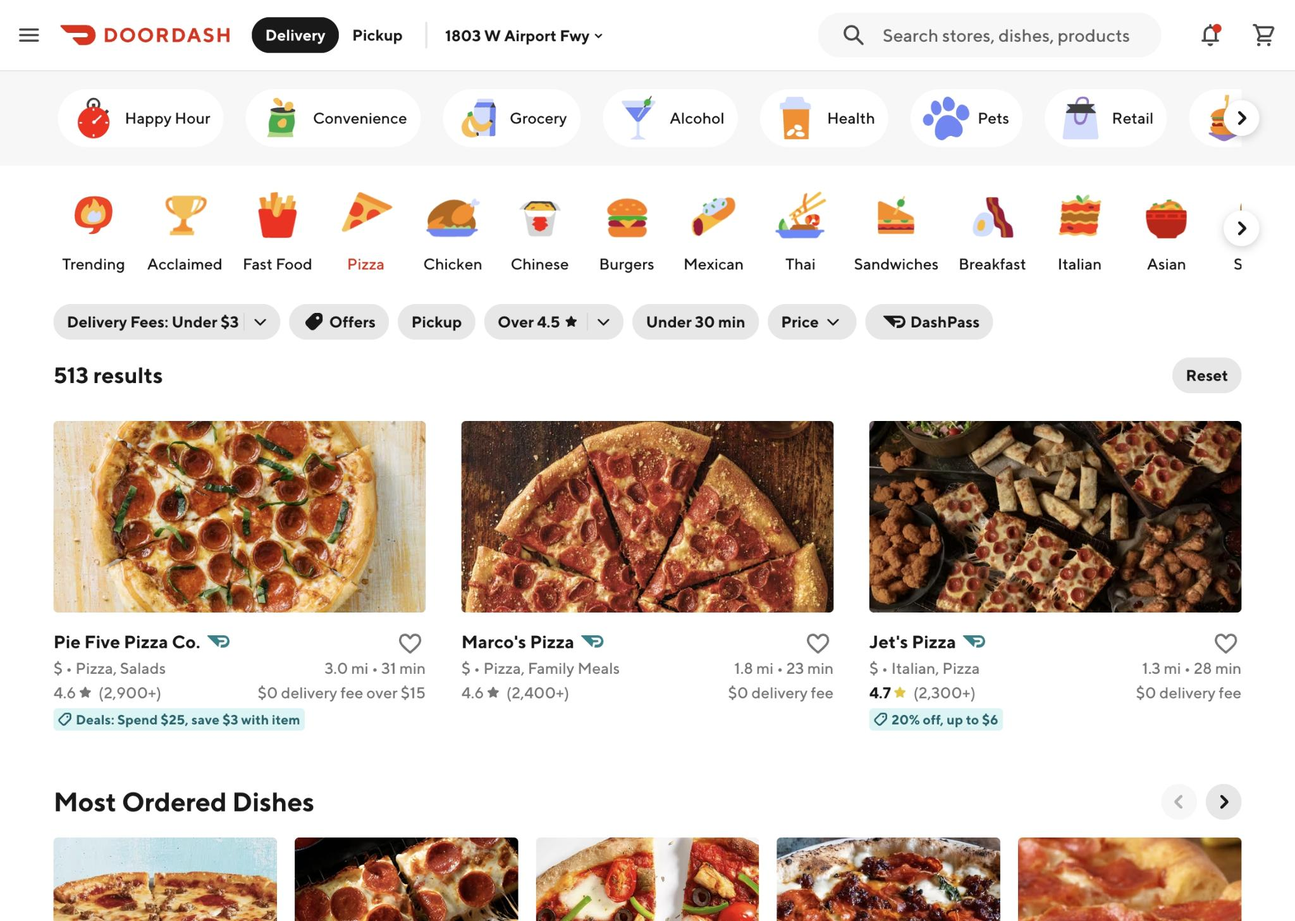webelement: (52, 420, 424, 612), (460, 420, 832, 612), (868, 420, 1240, 612), (52, 625, 424, 730), (868, 625, 1240, 730), (460, 625, 832, 707), (52, 837, 275, 921), (293, 837, 516, 921), (535, 837, 758, 921), (1017, 837, 1240, 921), (776, 837, 998, 921), (245, 88, 420, 146), (57, 88, 223, 146), (52, 783, 313, 819), (142, 176, 226, 279), (53, 303, 279, 339), (441, 88, 579, 146), (602, 88, 736, 146), (55, 176, 130, 279), (759, 88, 887, 146), (1044, 88, 1165, 146), (909, 88, 1021, 146), (882, 23, 1147, 47), (1188, 88, 1295, 146), (484, 303, 623, 339), (632, 303, 758, 339), (75, 709, 300, 729), (256, 680, 424, 703), (288, 303, 388, 339), (66, 312, 265, 330), (52, 628, 199, 652), (59, 25, 228, 45), (251, 17, 337, 52), (1053, 90, 1107, 143), (460, 659, 618, 677), (52, 361, 161, 387), (66, 90, 119, 143), (254, 90, 307, 143), (450, 90, 503, 143), (611, 90, 664, 143), (768, 90, 821, 143), (919, 90, 972, 143), (1197, 90, 1250, 143), (397, 303, 473, 339), (460, 628, 573, 652), (338, 17, 414, 52), (878, 308, 978, 334), (444, 26, 588, 44), (1171, 357, 1240, 392), (727, 680, 832, 703), (1135, 680, 1240, 703), (323, 656, 424, 679), (733, 656, 832, 679), (1141, 656, 1240, 679), (891, 709, 997, 729), (868, 628, 955, 652), (312, 106, 406, 128), (497, 312, 610, 330), (52, 659, 165, 677), (868, 659, 978, 677), (6, 13, 50, 57), (1241, 13, 1285, 57), (124, 106, 209, 128), (853, 252, 937, 274), (646, 312, 744, 330), (146, 252, 222, 274), (242, 252, 312, 274), (958, 252, 1025, 274), (97, 680, 161, 703), (505, 680, 568, 703), (913, 680, 975, 703), (61, 252, 123, 274), (682, 252, 742, 274), (301, 312, 374, 330), (423, 252, 482, 274), (391, 625, 427, 661), (799, 625, 835, 661), (1207, 625, 1243, 661), (509, 252, 567, 274), (241, 303, 276, 339), (586, 303, 621, 339), (509, 106, 566, 128), (780, 311, 842, 331), (598, 252, 653, 274), (669, 106, 723, 128), (1196, 13, 1222, 57), (264, 26, 324, 44), (826, 106, 874, 128), (1057, 252, 1101, 274), (1111, 106, 1152, 128), (351, 26, 401, 44), (410, 312, 460, 330), (1255, 106, 1295, 128), (1233, 252, 1273, 274), (1146, 252, 1185, 274), (346, 252, 383, 274), (1185, 365, 1227, 383), (977, 106, 1008, 128), (785, 252, 815, 274), (39, 311, 66, 331), (868, 680, 891, 703), (52, 680, 74, 703), (461, 680, 483, 703)
